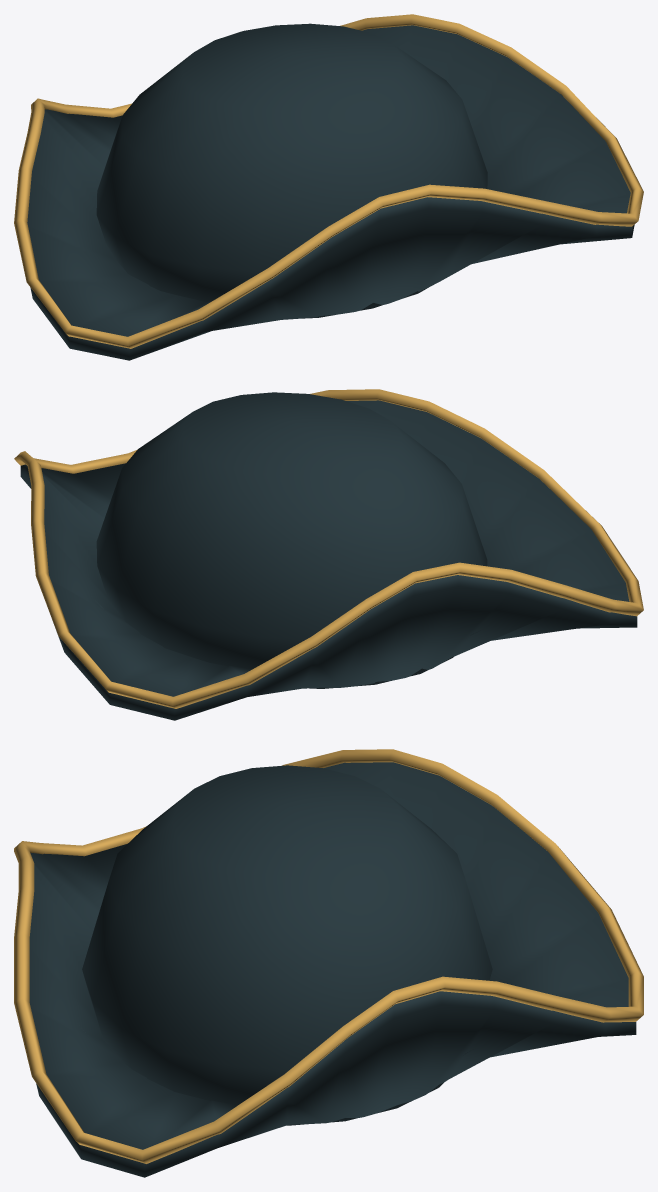
File: pirate_hat.glb
The picture shows the model from 3 angles, top to bottom: view 1: azimuth 30°, elevation 25°; view 2: azimuth 150°, elevation 25°; view 3: azimuth 270°, elevation 25°; orthographic projection. The views are drawn at different scales.
Visible parts, largest first — view 1: pirate_hat; view 2: pirate_hat; view 3: pirate_hat.
Boxes of the visible parts, x1,y1,x2,y2 form: pirate_hat: (14,14,643,360); pirate_hat: (14,389,643,720); pirate_hat: (14,749,643,1177).
Size of the model in its own units: 0.852 by 0.2695 by 0.6766.
